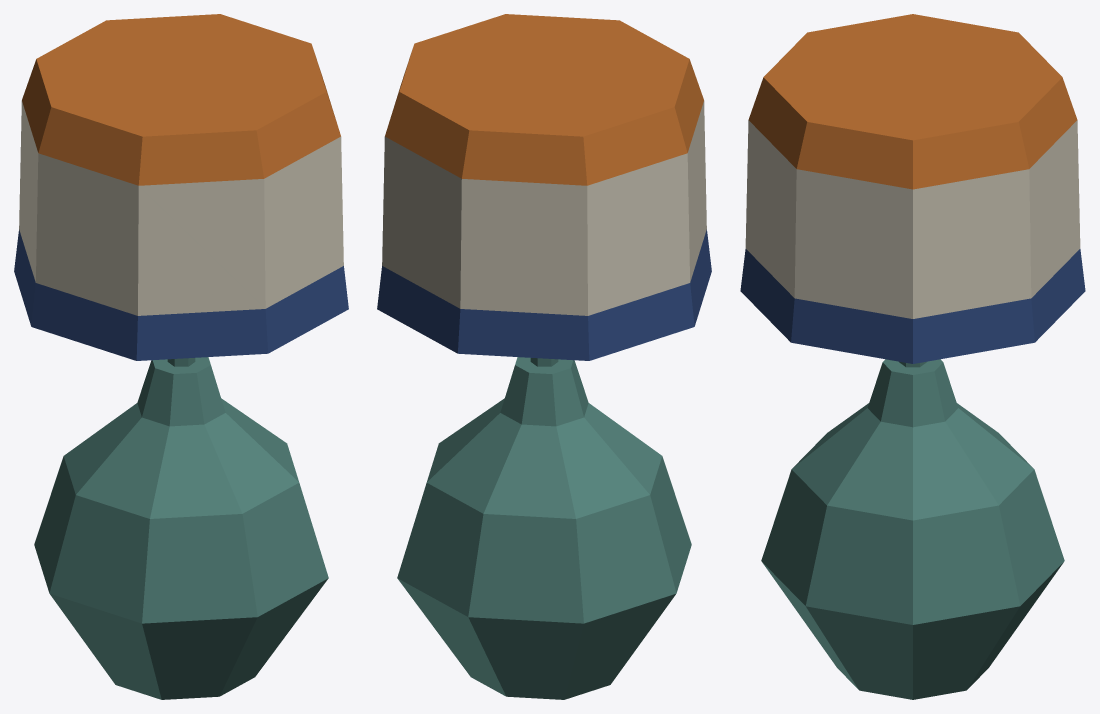
Rendered from table-lamp-10.glb.
3 renders of one model, left to right at view 1: azimuth 30°, elevation 25°; view 2: azimuth 150°, elevation 25°; view 3: azimuth 270°, elevation 25°, orthographic.
Parts seen in each view (by area): view 1: table_lamp_10; view 2: table_lamp_10; view 3: table_lamp_10.
Part boxes in pixels (x1,y1,x2,y2): table_lamp_10: (14, 14, 348, 699); table_lamp_10: (377, 14, 711, 699); table_lamp_10: (740, 14, 1085, 699).
Size of the model in its own units: 0.2975 by 0.5619 by 0.2975.
